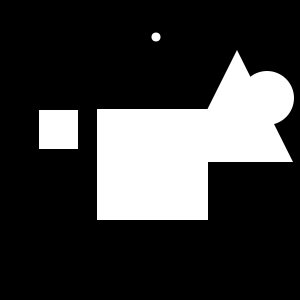circle: (97, 109, 208, 220), (39, 110, 78, 149)
rectangle: (240, 71, 294, 125), (152, 32, 160, 42)
triangle: (181, 50, 293, 162)
